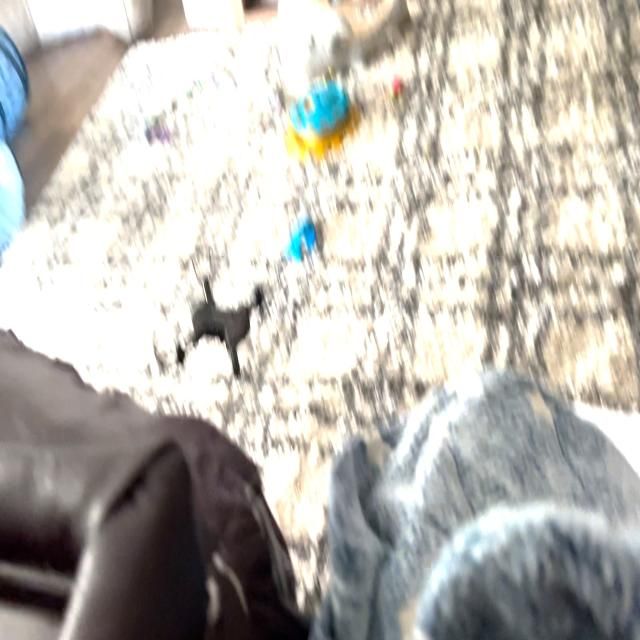drone: (145, 226, 289, 412)
